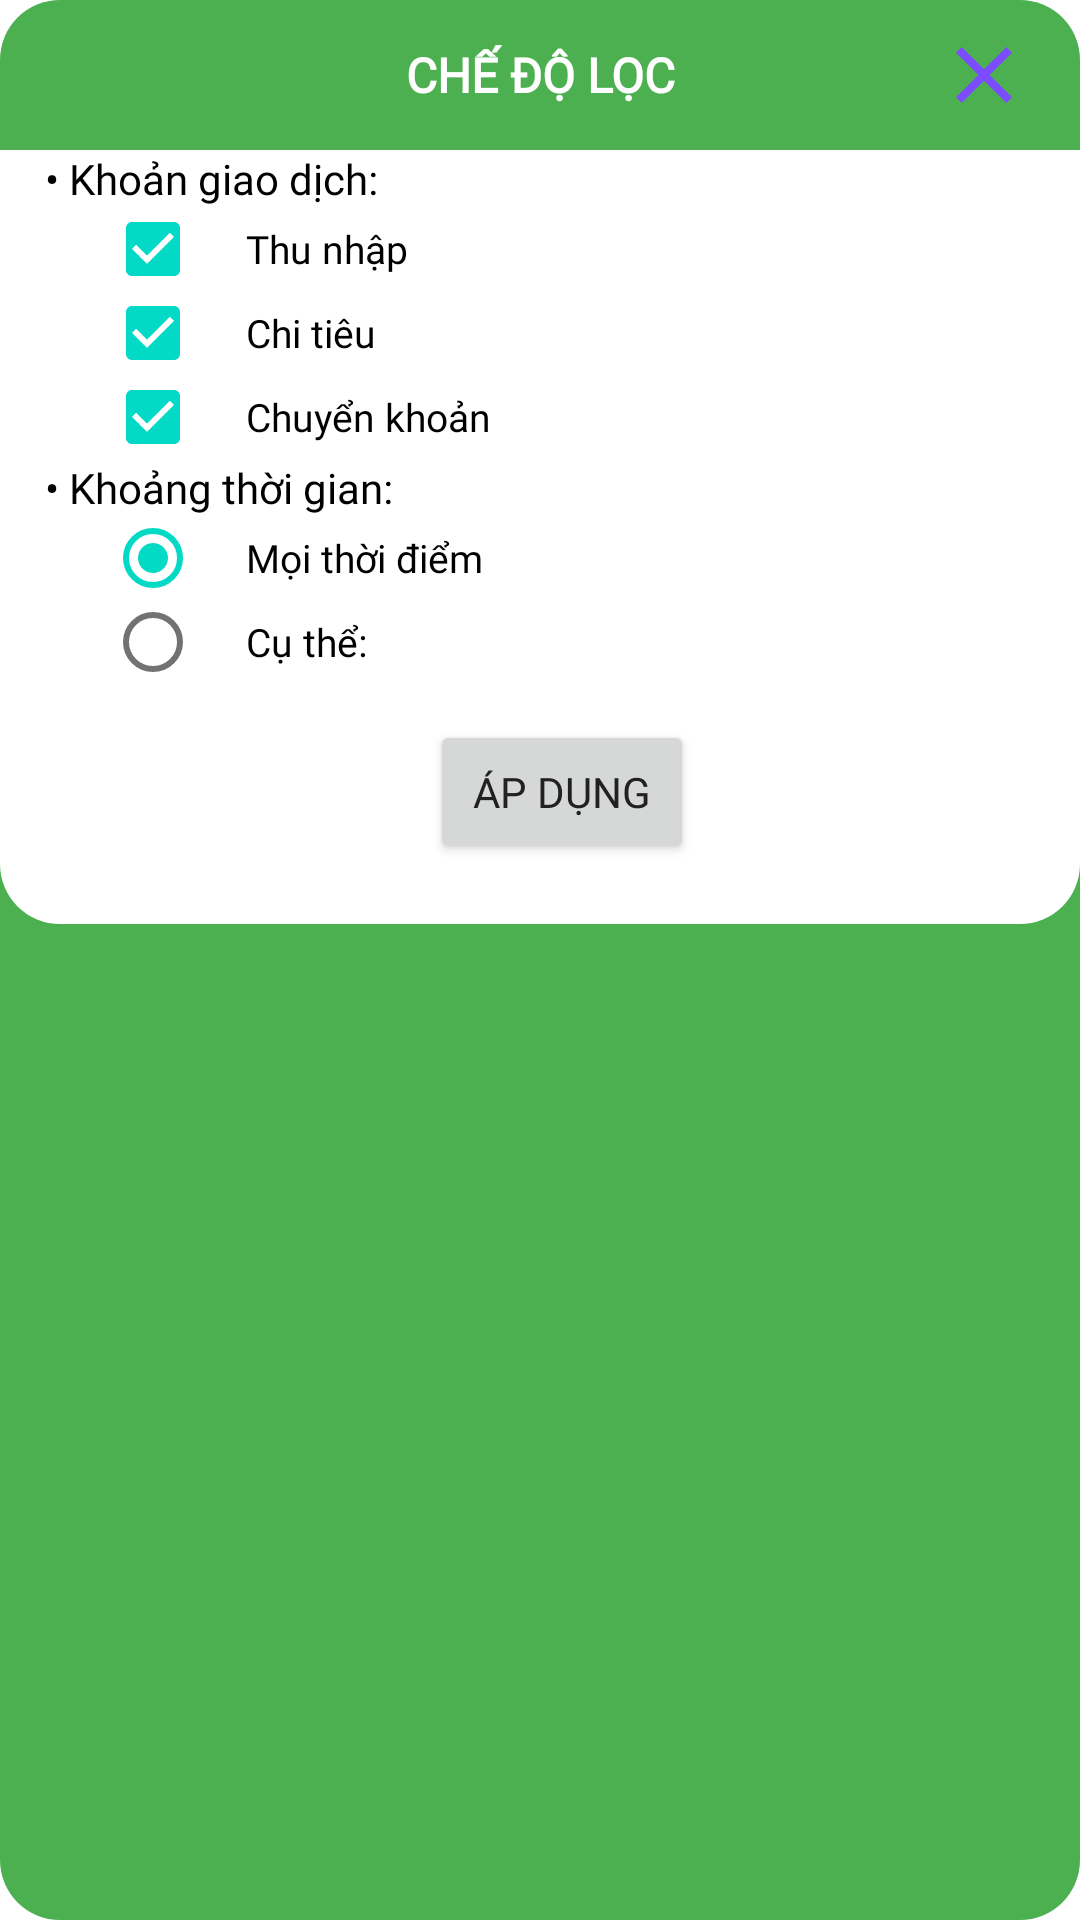

Icons on this 1080 x 1920 Android screen, each with its box as BBox(x1, y1, x2, y2):
close: BBox(956, 47, 1012, 103)
